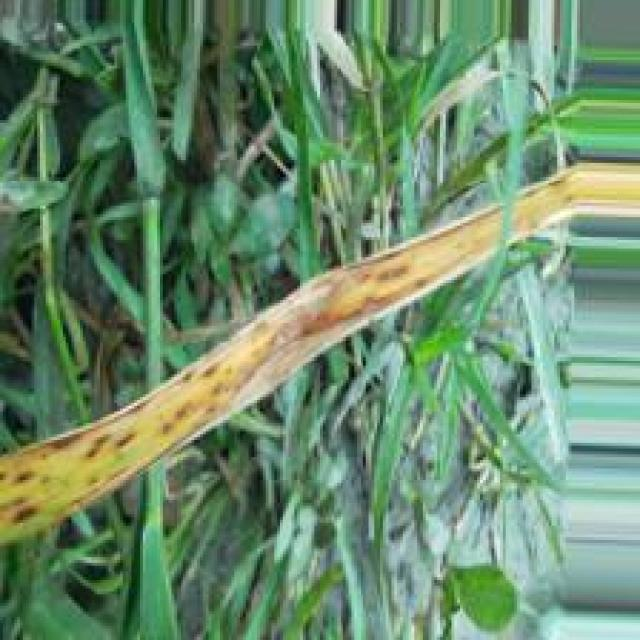Narrow_Brown_Leaf_Spot: (0, 168, 640, 529)
